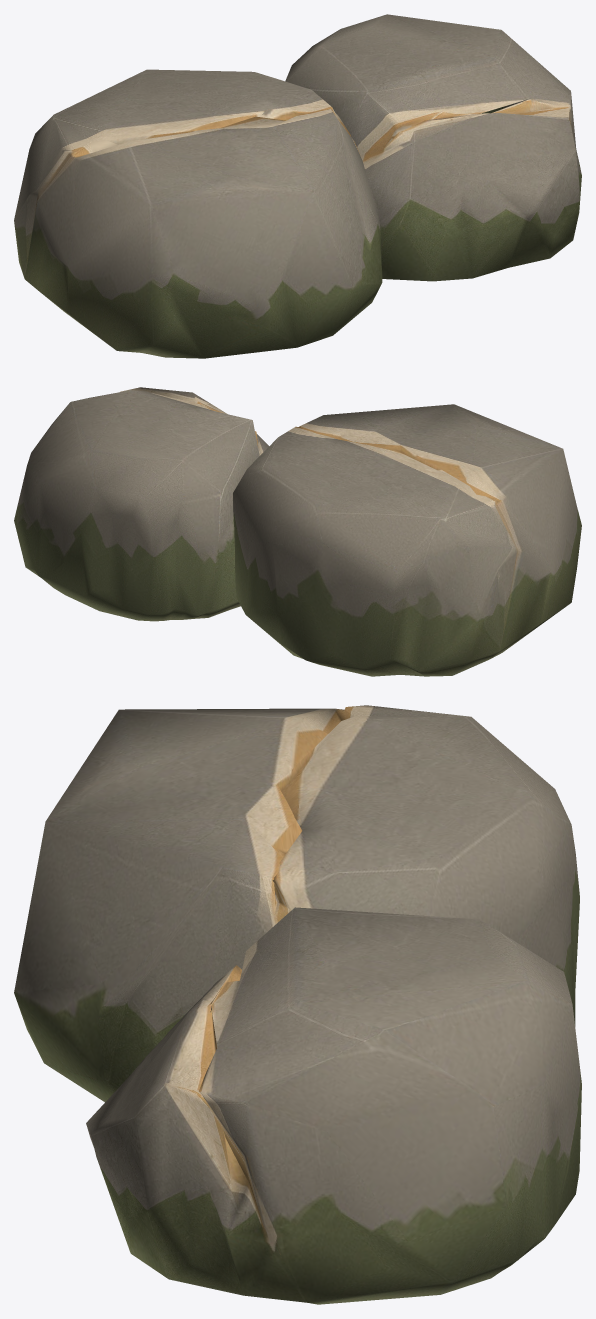
Rendered from AW-ROCK-002-v0.2.glb.
The picture shows the model from 3 angles, top to bottom: view 1: azimuth 30°, elevation 25°; view 2: azimuth 150°, elevation 25°; view 3: azimuth 270°, elevation 25°; orthographic projection. The views are drawn at different scales.
Visible parts, largest first — view 1: AW-ROCK-002_meter_ground_pivot; view 2: AW-ROCK-002_meter_ground_pivot; view 3: AW-ROCK-002_meter_ground_pivot.
Boxes of the visible parts, x1,y1,x2,y2 form: AW-ROCK-002_meter_ground_pivot: [14, 14, 581, 358]; AW-ROCK-002_meter_ground_pivot: [14, 387, 581, 676]; AW-ROCK-002_meter_ground_pivot: [14, 705, 581, 1304].
Bounding box in the file's own units: 1.89 × 0.6 × 1.16.
1 material, 1 textured.
